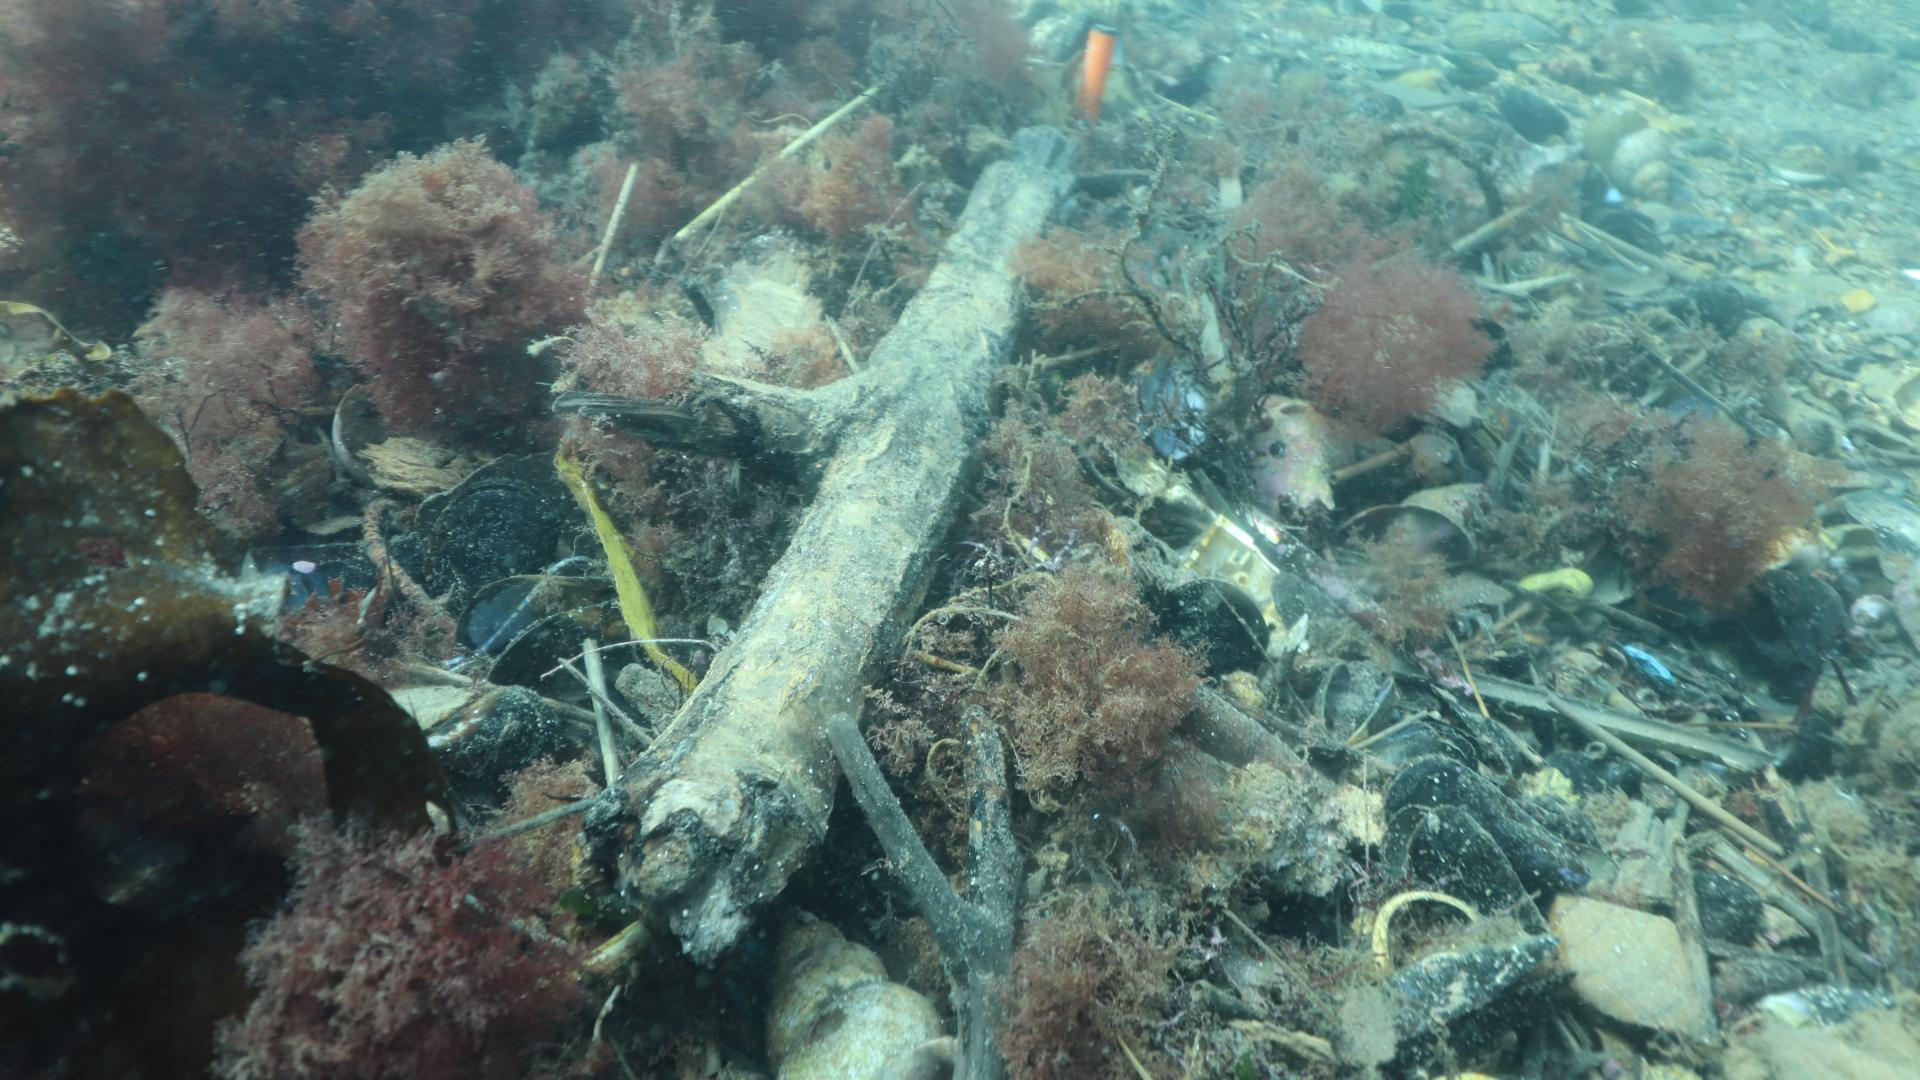wood: (571, 121, 1083, 963)
